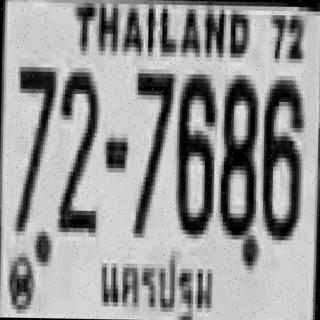N02: (56, 65, 100, 230)
N06: (260, 75, 303, 236), (173, 69, 213, 234)
N07: (12, 62, 55, 232), (132, 68, 172, 234)
N08: (218, 74, 255, 235)
P28: (96, 250, 218, 320)
